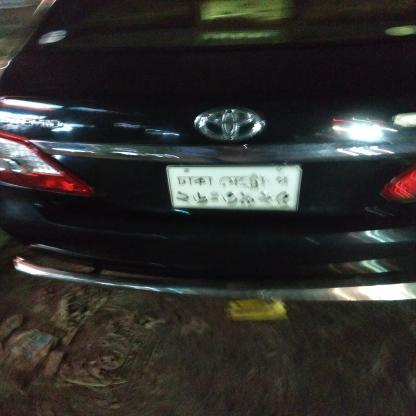license_plate: (154, 154, 338, 236)
